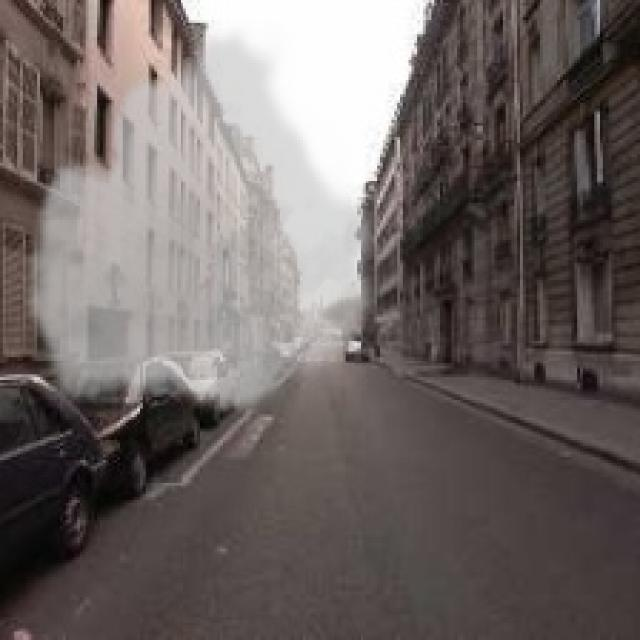smoke: (23, 20, 386, 417)
